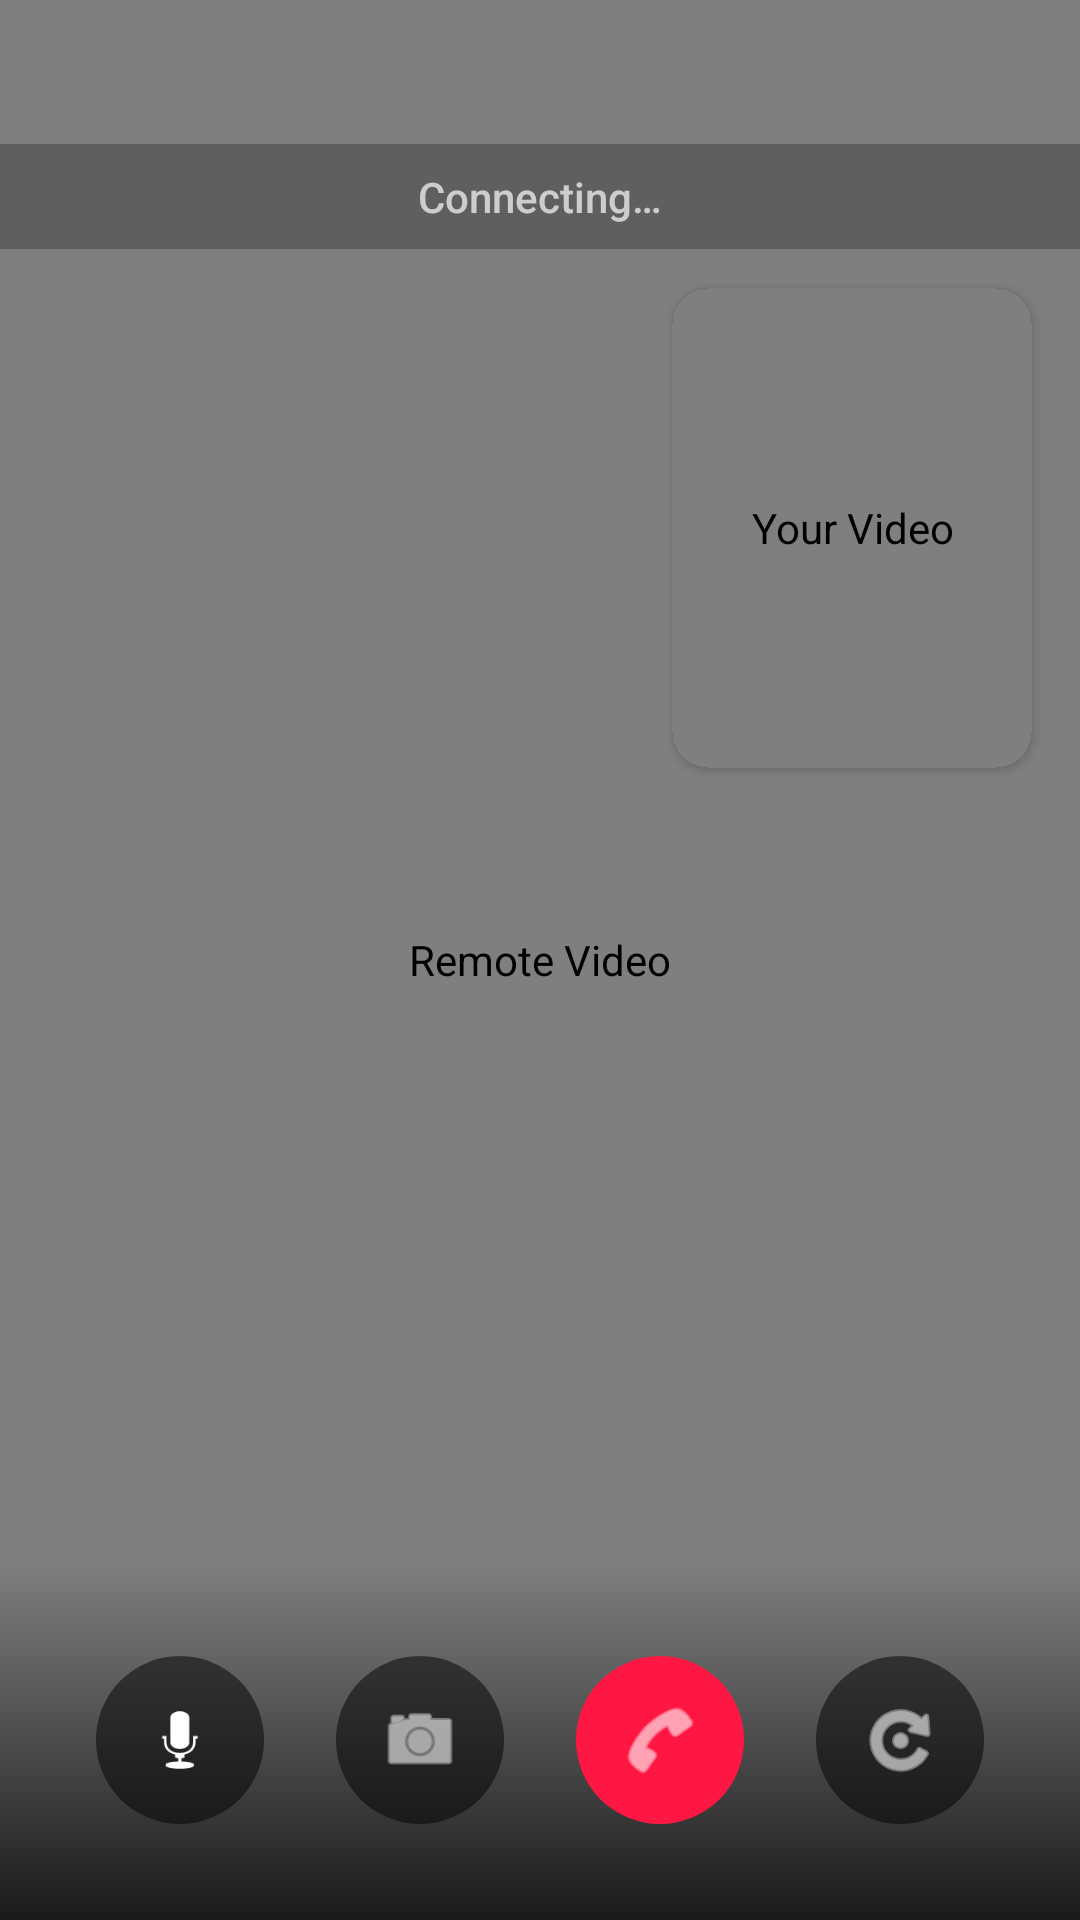

Named icons in this screenshot (1080px x 1920px) and their centers, point (x, y):
End Call: point (660, 1740)
Switch Camera: point (900, 1740)
Toggle Camera: point (420, 1740)
Toggle Microphone: point (180, 1740)
